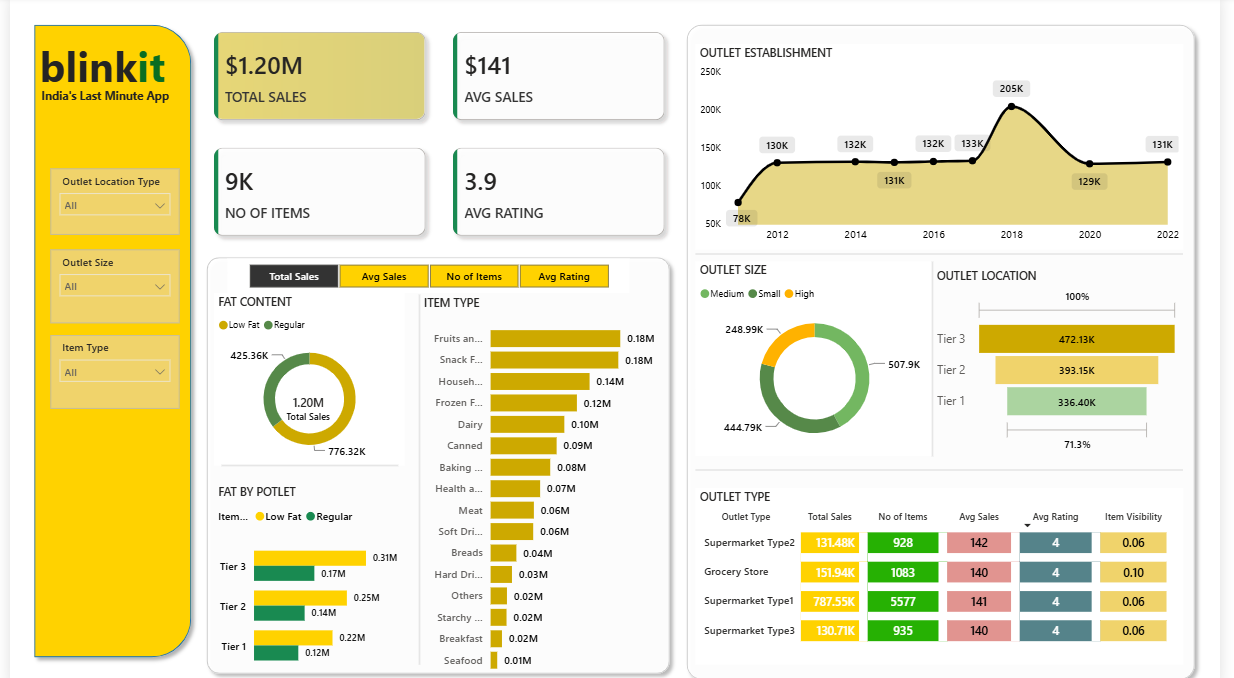

This screenshot's page, from the dashboard's own definition file:
{"tool":"powerbi","page":{"name":"Page 1","canvas":[1400,800],"ordinal":0},"visuals":[{"type":"shape","box":[19.1,24.3,199.7,750.2],"z":0},{"type":"textbox","box":[31.3,100.7,165,31.3],"z":1000},{"type":"cardVisual","fields":{"Data":["BlinkIT Grocery Data.Total Sales","BlinkIT Grocery Data.Avg Sales","BlinkIT Grocery Data.No of Items","BlinkIT Grocery Data.Avg Rating"]},"box":[218.8,24.3,556,270],"z":2000},{"type":"textbox","box":[29.5,41.7,166.7,74.7],"z":3000},{"type":"shape","box":[218.8,293.5,554,500],"z":4000},{"type":"donutChart","title":"FAT CONTENT","fields":{"Category":["BlinkIT Grocery Data.Item Fat Content"],"Y":["BlinkIT Grocery Data.Total Sales"]},"box":[236.2,343.9,220.6,199.7],"z":5000},{"type":"slicer","fields":{"Values":["Metrics.Metrics"]},"box":[251.8,303.9,465,40],"z":6000},{"type":"cardVisual","fields":{"Data":["BlinkIT Grocery Data.Total Sales"]},"box":[298.7,444.6,93.8,66],"z":7000},{"type":"clusteredBarChart","title":"FAT BY POTLET","fields":{"Category":["BlinkIT Grocery Data.Outlet Location Type"],"Series":["BlinkIT Grocery Data.Item Fat Content"],"Y":["BlinkIT Grocery Data.Total Sales"]},"box":[236.2,564.4,220,230],"z":8000},{"type":"shape","box":[463.7,345.6,20.8,429],"z":9000},{"type":"shape","box":[244.9,533.2,204.9,20.8],"z":10000},{"type":"barChart","title":"ITEM TYPE","fields":{"Category":["BlinkIT Grocery Data.Item Type"],"Y":["BlinkIT Grocery Data.Total Sales"]},"box":[474.1,345.6,277.9,448.1],"z":11000},{"type":"shape","box":[774.5,24.3,606.1,776.3],"z":12000},{"type":"lineChart","title":"OUTLET ESTABLISHMENT","fields":{"Category":["BlinkIT Grocery Data.Outlet Establishment Year"],"Y":["BlinkIT Grocery Data.Total Sales"]},"box":[793.7,55.6,564.4,237.9],"z":13000},{"type":"shape","box":[793.7,293.5,564.4,10.4],"z":14000},{"type":"donutChart","title":"OUTLET SIZE","fields":{"Category":["BlinkIT Grocery Data.Outlet Size"],"Y":["BlinkIT Grocery Data.Total Sales"]},"box":[793.7,307.4,275,225],"z":15000},{"type":"shape","box":[1057.6,307.4,20.8,225.8],"z":16000},{"type":"funnel","title":"OUTLET LOCATION","fields":{"Category":["BlinkIT Grocery Data.Outlet Location Type"],"Y":["Sum(BlinkIT Grocery Data.Sales)"]},"box":[1068,314.3,290,218.8],"z":17000},{"type":"shape","box":[793.7,543.6,564.4,10.4],"z":18000},{"type":"pivotTable","title":"OUTLET TYPE","fields":{"Rows":["BlinkIT Grocery Data.Outlet Type"],"Values":["BlinkIT Grocery Data.Total Sales","BlinkIT Grocery Data.No of Items","BlinkIT Grocery Data.Avg Sales","BlinkIT Grocery Data.Avg Rating","Avg(BlinkIT Grocery Data.Item Visibility)"]},"box":[793.7,569.6,564.4,204.9],"z":19000},{"type":"slicer","fields":{"Values":["BlinkIT Grocery Data.Outlet Location Type"]},"box":[46.9,199.7,149.4,76.4],"z":19001},{"type":"slicer","fields":{"Values":["BlinkIT Grocery Data.Outlet Size"]},"box":[46.9,293.5,149.4,85.1],"z":19002},{"type":"slicer","fields":{"Values":["BlinkIT Grocery Data.Item Type"]},"box":[46.9,392.5,149.4,85.1],"z":19003}]}

Visuals, with their boxes on the page's 1400x800 design canvas (x1, y1, x2, y2). These are canvas units, not pixel positions in the 1234x678 screenshot, which may show the page scaled, cropped or inside an application window:
shape: (19, 24, 219, 774)
textbox: (31, 101, 196, 132)
cardVisual - BlinkIT Grocery Data.Total Sales x BlinkIT Grocery Data.Avg Sales: (219, 24, 775, 294)
textbox: (30, 42, 196, 116)
shape: (219, 294, 773, 794)
"FAT CONTENT" donutChart: (236, 344, 457, 544)
slicer - Metrics.Metrics: (252, 304, 717, 344)
cardVisual - BlinkIT Grocery Data.Total Sales: (299, 445, 392, 511)
"FAT BY POTLET" clusteredBarChart: (236, 564, 456, 794)
shape: (464, 346, 484, 775)
shape: (245, 533, 450, 554)
"ITEM TYPE" barChart: (474, 346, 752, 794)
shape: (774, 24, 1381, 801)
"OUTLET ESTABLISHMENT" lineChart: (794, 56, 1358, 294)
shape: (794, 294, 1358, 304)
"OUTLET SIZE" donutChart: (794, 307, 1069, 532)
shape: (1058, 307, 1078, 533)
"OUTLET LOCATION" funnel: (1068, 314, 1358, 533)
shape: (794, 544, 1358, 554)
"OUTLET TYPE" pivotTable: (794, 570, 1358, 774)
slicer - BlinkIT Grocery Data.Outlet Location Type: (47, 200, 196, 276)
slicer - BlinkIT Grocery Data.Outlet Size: (47, 294, 196, 379)
slicer - BlinkIT Grocery Data.Item Type: (47, 392, 196, 478)
